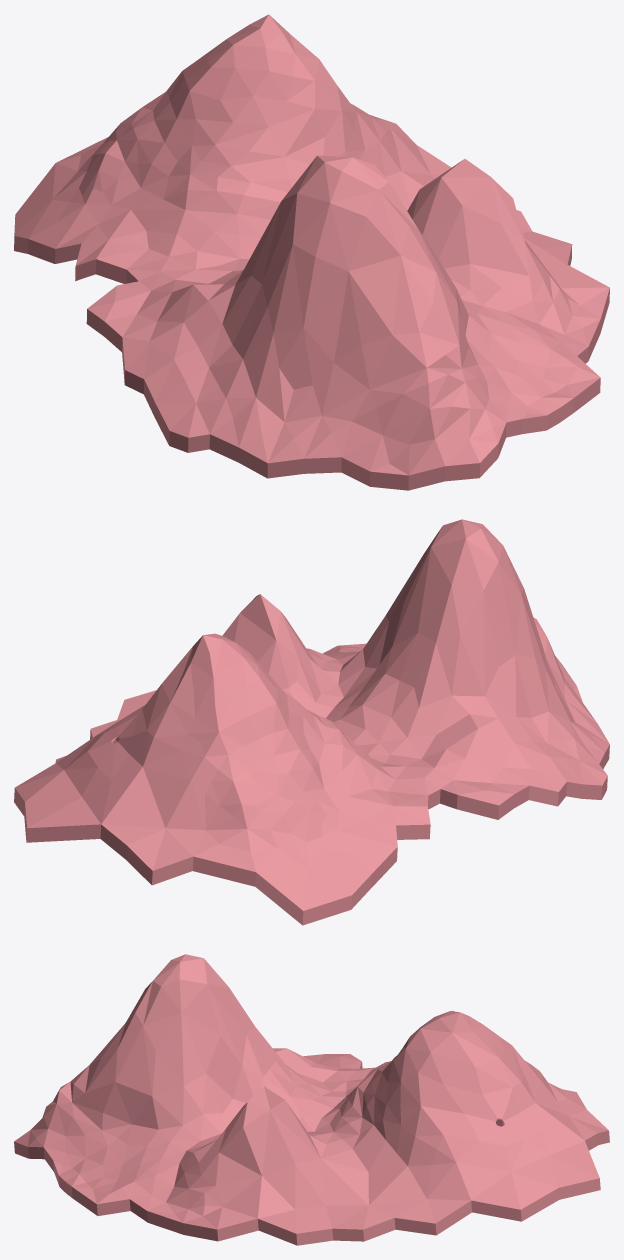
The model's file is huiTerrain1_02(bver).fbx.
3 views of the same model, one above another, from view 1: azimuth 30°, elevation 25°; view 2: azimuth 150°, elevation 25°; view 3: azimuth 270°, elevation 25° (orthographic). The views are drawn at different scales.
Parts seen in each view (by area): view 1: Icosphere.001; view 2: Icosphere.001; view 3: Icosphere.001.
Part boxes in pixels (bbox=[...]): Icosphere.001: bbox=[14, 14, 609, 490]; Icosphere.001: bbox=[14, 519, 609, 925]; Icosphere.001: bbox=[14, 954, 609, 1245].
Bounding box in the file's own units: 1063 × 573 × 1560.
